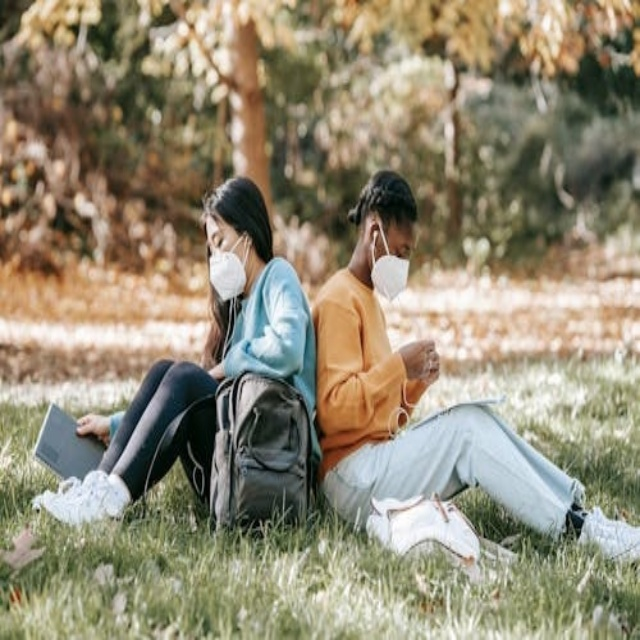Mascara: (371, 227, 410, 302), (208, 233, 249, 301)
Sin_gafas: (202, 219, 232, 252), (397, 241, 413, 258)
Sin_guantes: (398, 337, 438, 382), (74, 404, 113, 444)
